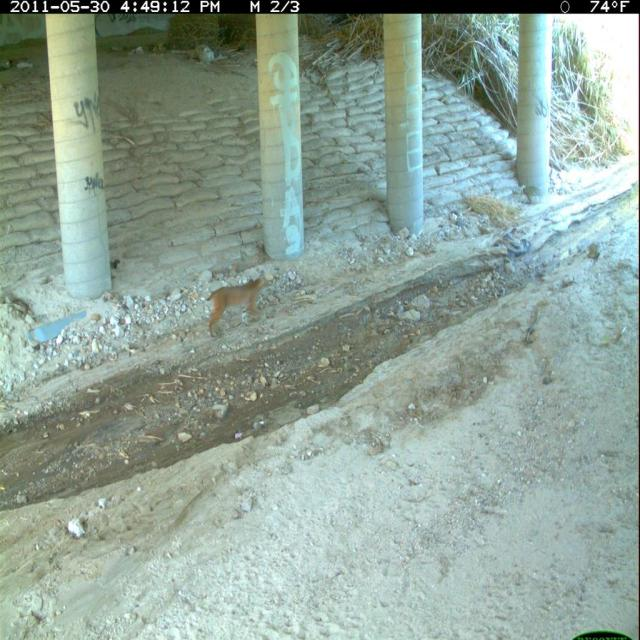bobcat: (202, 269, 275, 343)
